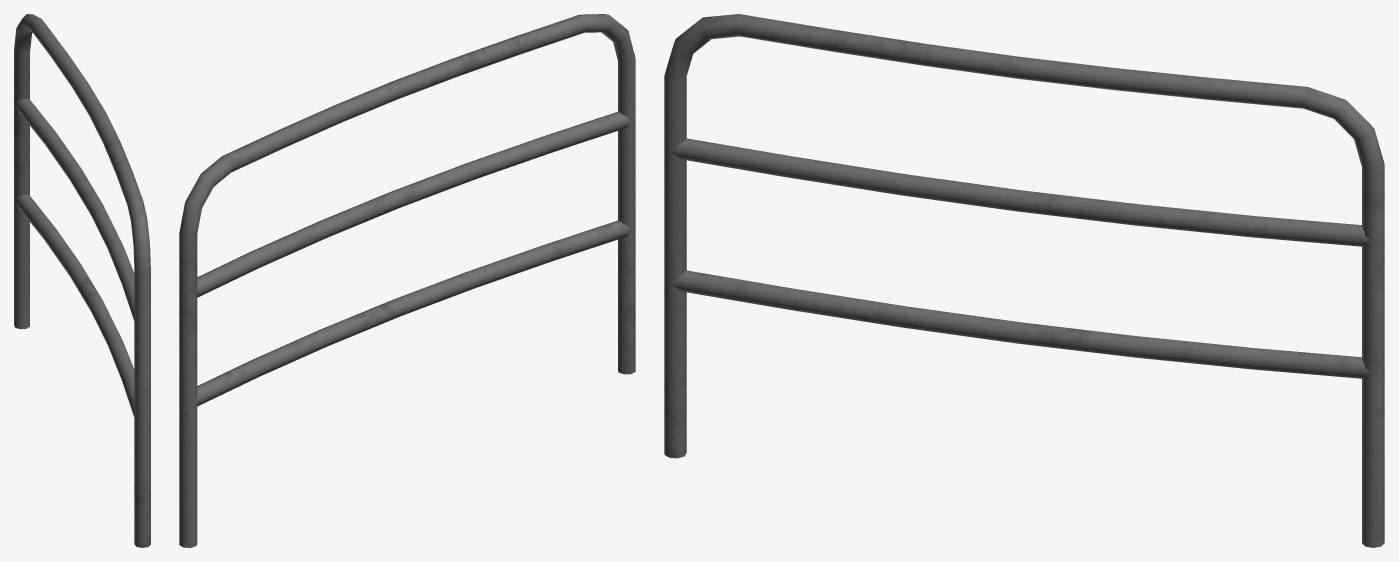
File: CorrimaoPequeno.FBX
The picture shows the model from 3 angles, left to right: view 1: azimuth 30°, elevation 25°; view 2: azimuth 150°, elevation 25°; view 3: azimuth 270°, elevation 25°; orthographic projection. The views are drawn at different scales.
Visible parts, largest first — view 1: CorrimaoPequeno; view 2: CorrimaoPequeno; view 3: CorrimaoPequeno.
Boxes of the visible parts, left/top/right/bottom form: CorrimaoPequeno: left=14, top=14, right=150, bottom=547; CorrimaoPequeno: left=179, top=14, right=635, bottom=547; CorrimaoPequeno: left=664, top=14, right=1384, bottom=547.
Bounding box in the file's own units: 51.44 × 109 × 158.
